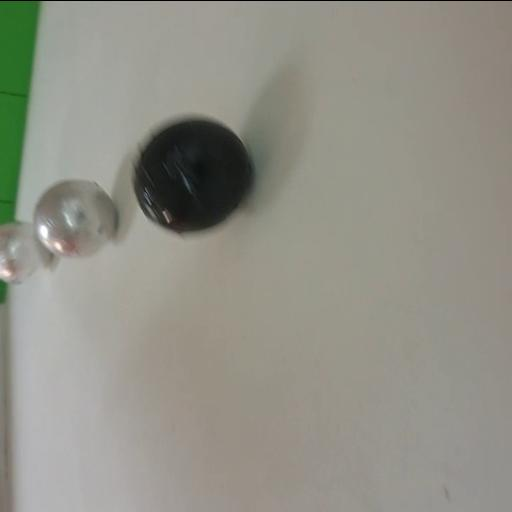alive: (34, 178, 118, 258), (0, 222, 52, 284)
dead: (130, 115, 254, 237)
